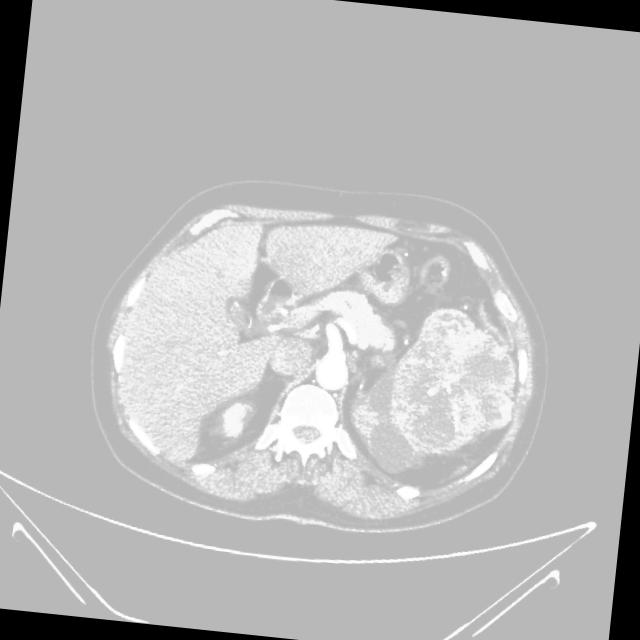TUMOR: (315, 279, 533, 523)
